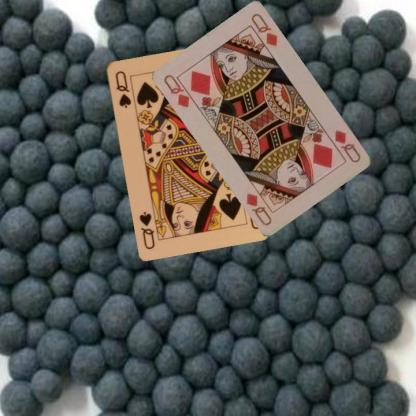Qd: (161, 72, 199, 109), (332, 126, 363, 164)
Qs: (112, 68, 132, 109)
